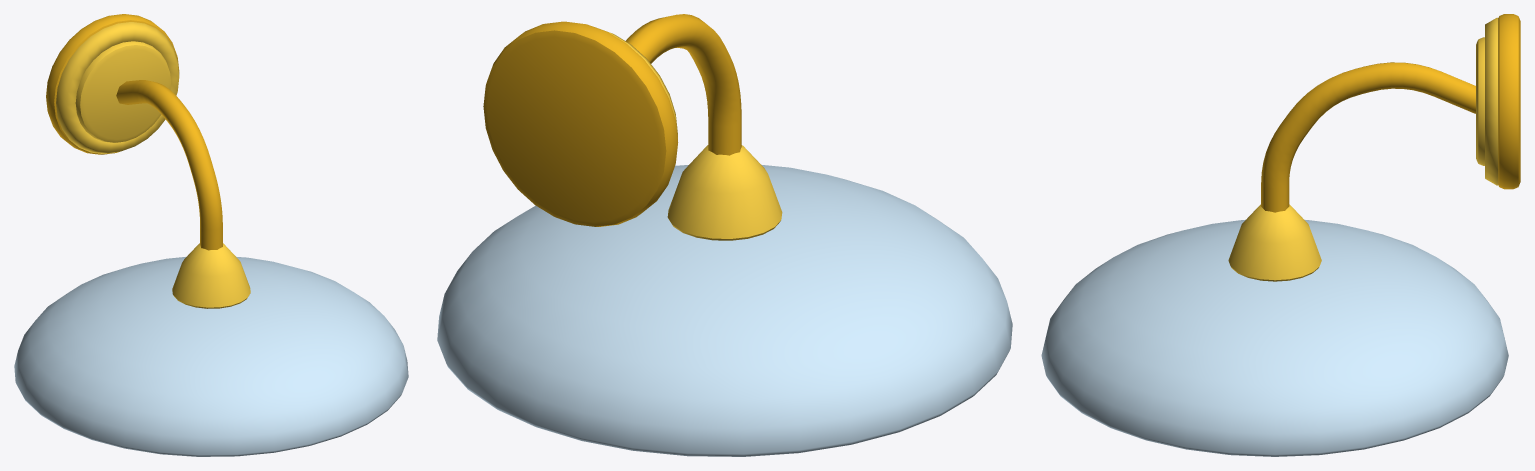
File: arandela_prato.glb
3 views of the same model, side by side, from view 1: azimuth 30°, elevation 25°; view 2: azimuth 150°, elevation 25°; view 3: azimuth 270°, elevation 25° (orthographic). The views are drawn at different scales.
Visible parts, largest first — view 1: arandela_prato; view 2: arandela_prato; view 3: arandela_prato.
Boxes of the visible parts, bbox=[...] form: arandela_prato: bbox=[14, 14, 408, 456]; arandela_prato: bbox=[437, 14, 1012, 456]; arandela_prato: bbox=[1041, 14, 1520, 456].
Size of the model in its own units: 0.4 by 0.32 by 0.41.
Materials: 2 (1 with a texture image).
